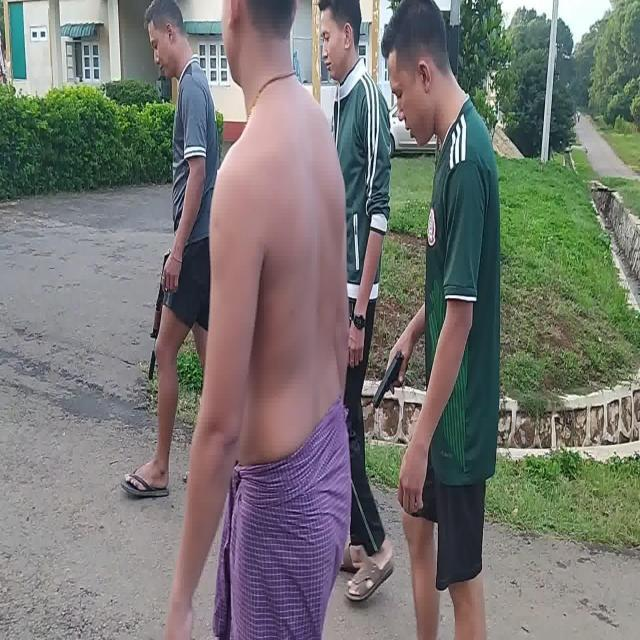gun: (149, 252, 171, 380), (372, 351, 408, 411)
